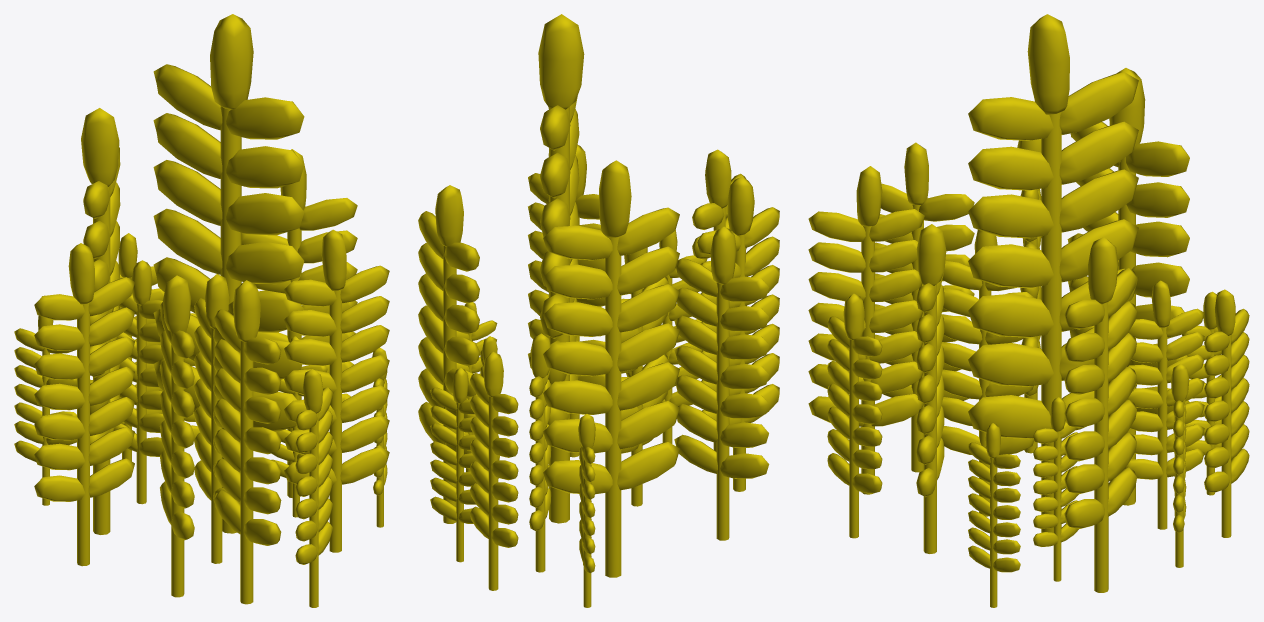
The model's file is Blé_Croissance_3.fbx.
3 renders of one model, left to right at view 1: azimuth 30°, elevation 25°; view 2: azimuth 150°, elevation 25°; view 3: azimuth 270°, elevation 25°, orthographic. The views are drawn at different scales.
Visible parts, largest first — view 1: Blé, Blé.006, Blé.007, Blé.014, Blé.010, Blé.002, Blé.009, Blé.008, Blé.003, Blé.001, Blé.011, Blé.013 (+2 smaller); view 2: Blé.002, Blé.006, Blé.001, Blé, Blé.013, Blé.010, Blé.005, Blé.007, Blé.008, Blé.011, Blé.014, Blé.003 (+2 smaller); view 3: Blé, Blé.001, Blé.014, Blé.002, Blé.008, Blé.009, Blé.013, Blé.003, Blé.007, Blé.010, Blé.004, Blé.012 (+3 smaller).
Boxes of the visible parts, left/top/right/bottom form: Blé: left=153, top=14, right=304, bottom=533; Blé.006: left=34, top=243, right=134, bottom=566; Blé.007: left=284, top=229, right=389, bottom=552; Blé.014: left=214, top=280, right=281, bottom=604; Blé.010: left=159, top=275, right=194, bottom=597; Blé.002: left=81, top=108, right=120, bottom=534; Blé.009: left=295, top=369, right=332, bottom=607; Blé.008: left=114, top=260, right=164, bottom=504; Blé.003: left=194, top=274, right=240, bottom=563; Blé.001: left=241, top=149, right=357, bottom=497; Blé.011: left=14, top=315, right=76, bottom=505; Blé.013: left=90, top=233, right=164, bottom=461; Blé.002: left=543, top=160, right=679, bottom=577; Blé.006: left=674, top=226, right=769, bottom=540; Blé.001: left=418, top=185, right=479, bottom=523; Blé: left=538, top=14, right=584, bottom=523; Blé.013: left=470, top=351, right=518, bottom=590; Blé.010: left=697, top=176, right=779, bottom=491; Blé.005: left=430, top=368, right=477, bottom=562; Blé.007: left=528, top=145, right=605, bottom=457; Blé.008: left=529, top=333, right=551, bottom=572; Blé.011: left=578, top=414, right=595, bottom=607; Blé.014: left=692, top=149, right=746, bottom=451; Blé.003: left=621, top=247, right=668, bottom=506; Blé: left=968, top=14, right=1138, bottom=532; Blé.001: left=1064, top=237, right=1136, bottom=592; Blé.014: left=808, top=166, right=924, bottom=494; Blé.002: left=1067, top=68, right=1189, bottom=505; Blé.008: left=1124, top=280, right=1204, bottom=529; Blé.009: left=827, top=293, right=882, bottom=538; Blé.013: left=1204, top=289, right=1249, bottom=537; Blé.003: left=941, top=229, right=1034, bottom=516; Blé.007: left=916, top=224, right=946, bottom=553; Blé.010: left=875, top=142, right=974, bottom=472; Blé.004: left=968, top=423, right=1020, bottom=607; Blé.012: left=1033, top=397, right=1078, bottom=581.
Bounding box in the file's own units: 171 × 249 × 187.
